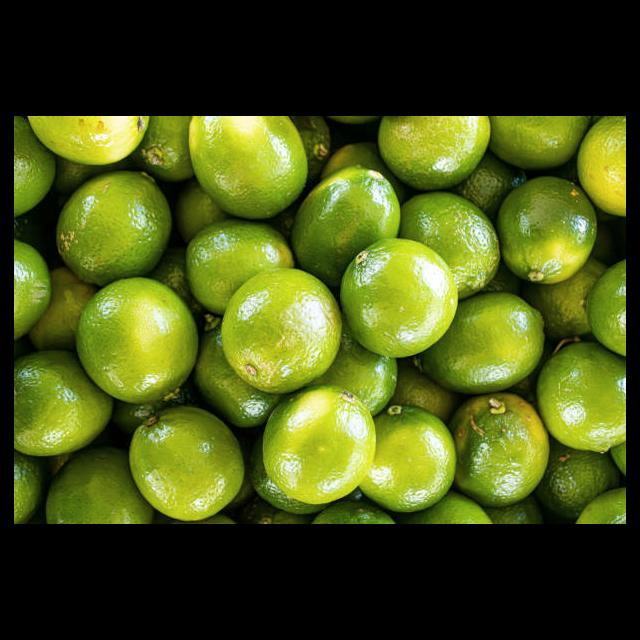lime: (220, 269, 342, 392), (340, 239, 458, 360), (447, 392, 552, 510)
